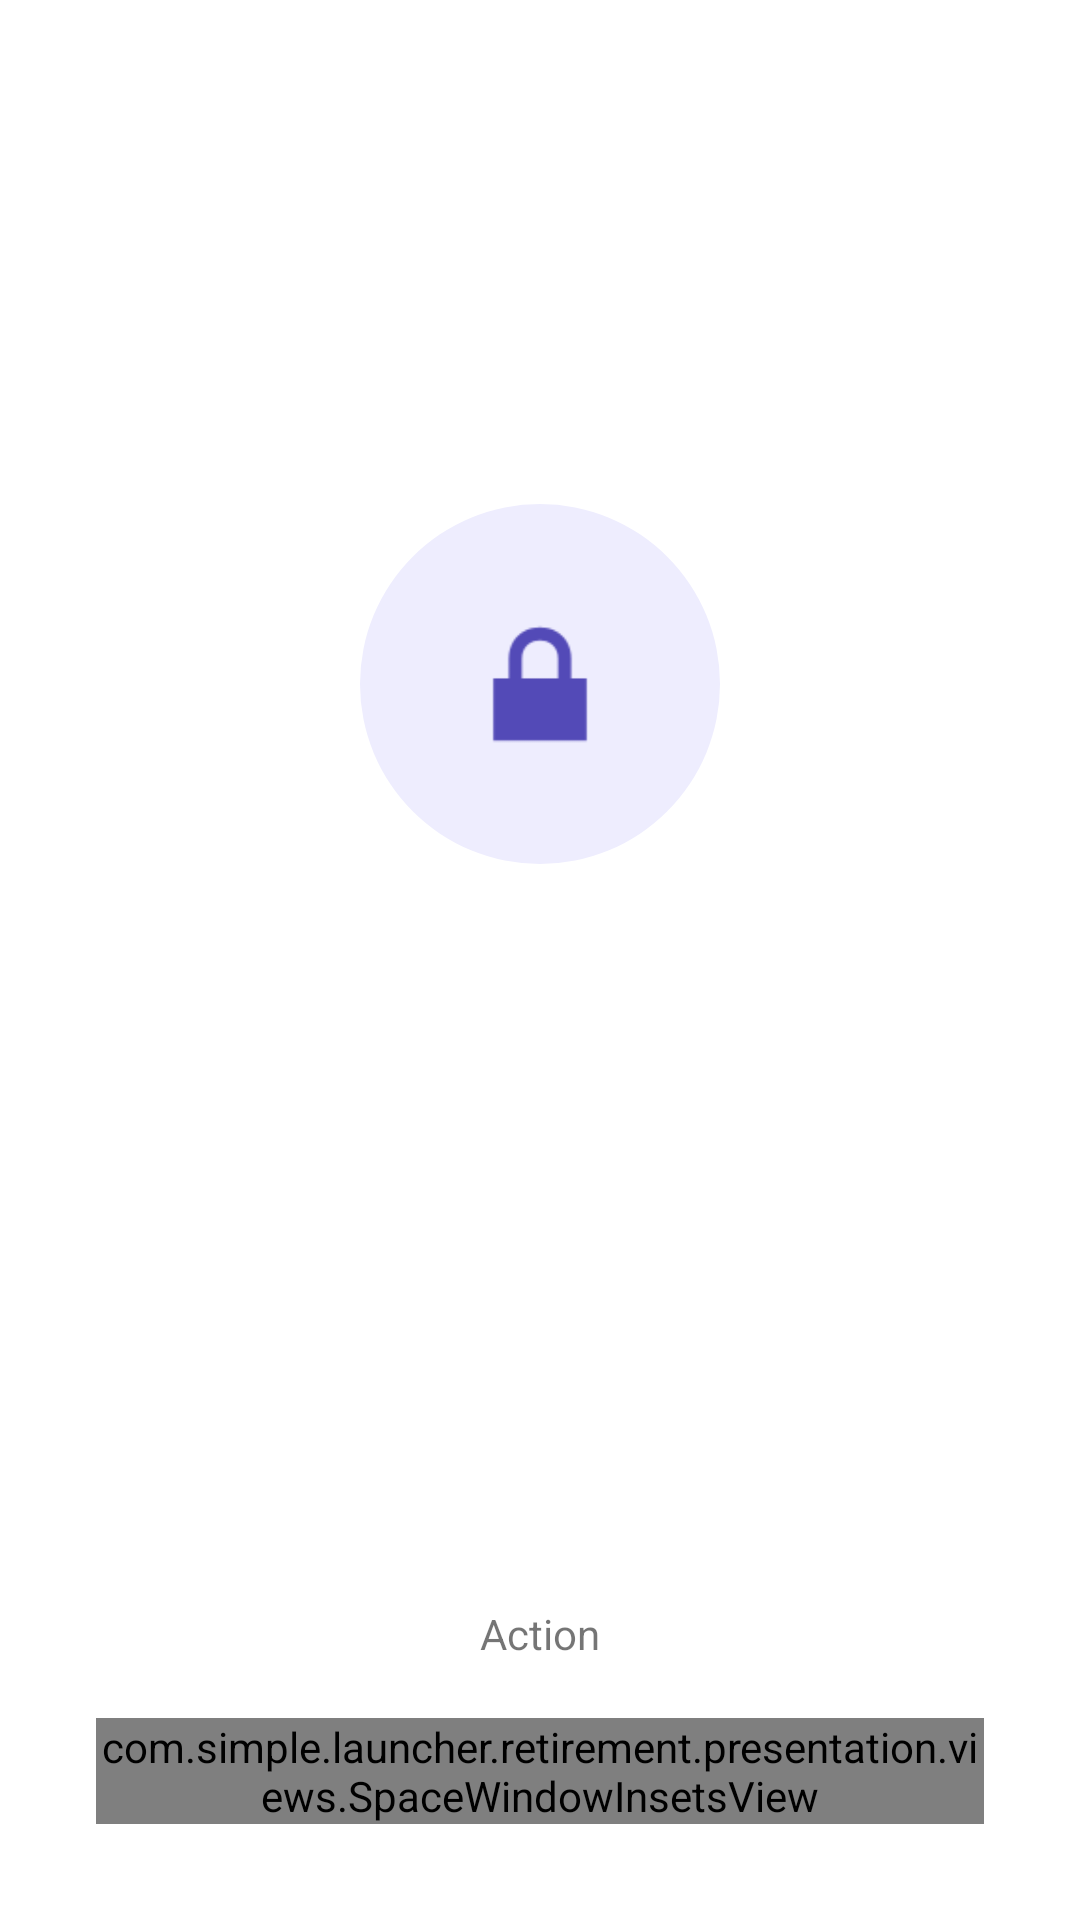

Icon click points for this 1080*1920 phone screenshot, format (x,y):
lock: (540,684)
